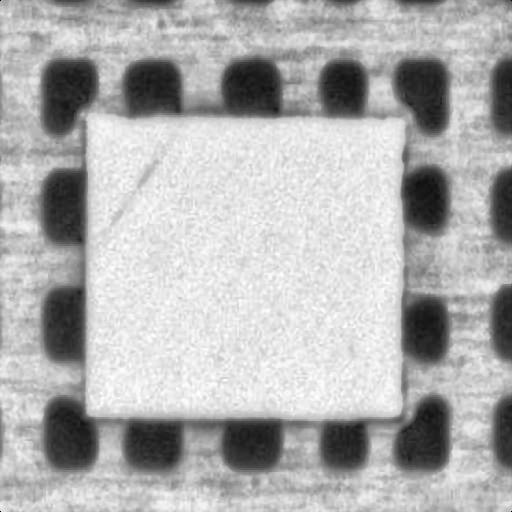DIE_CRACK: (94, 124, 186, 235)
